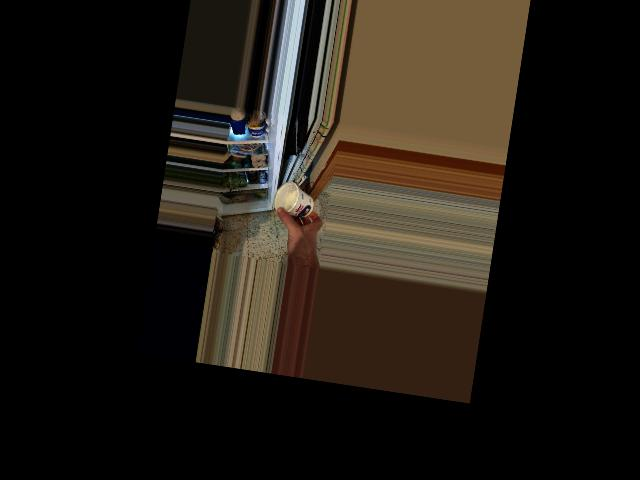cotage: (277, 178, 312, 218)
